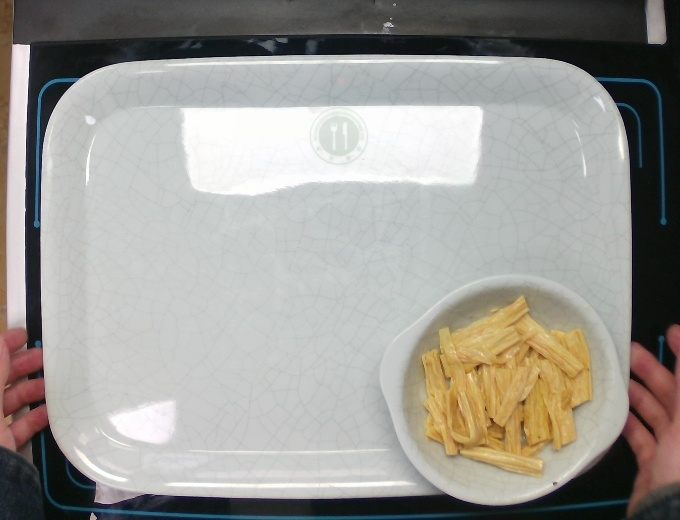JYsf-Shuang_Er_Wan: (377, 272, 631, 507)
